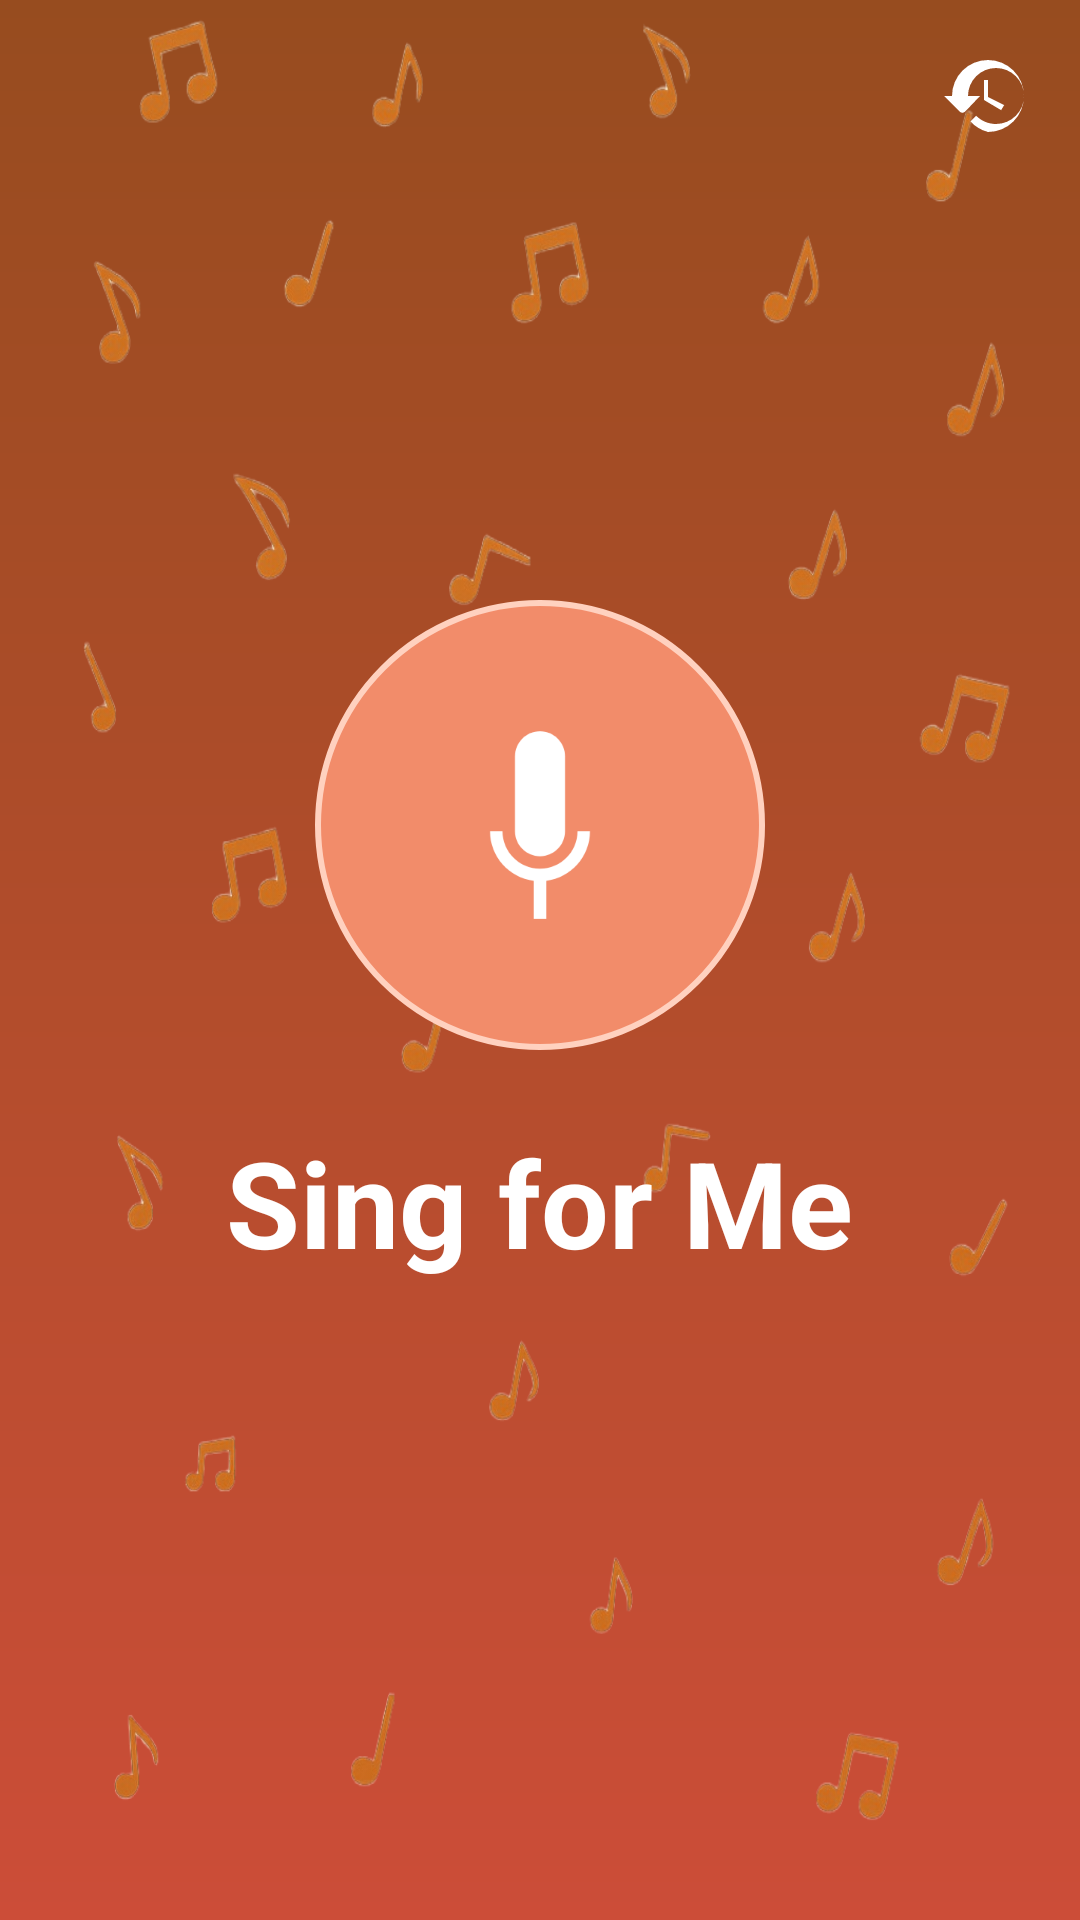

Icons on this 1080x1920 Android screen, each with its box as (x1, y1, x2, y2):
History: (944, 60, 1024, 144)
